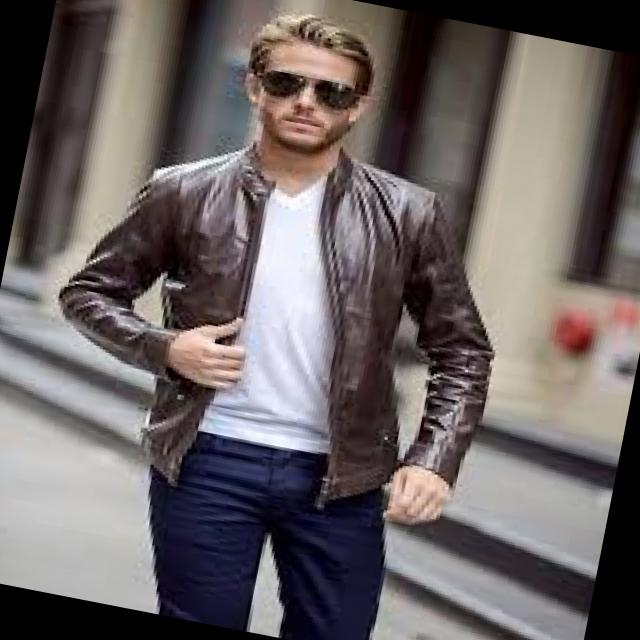Jacket: (42, 108, 530, 563)
